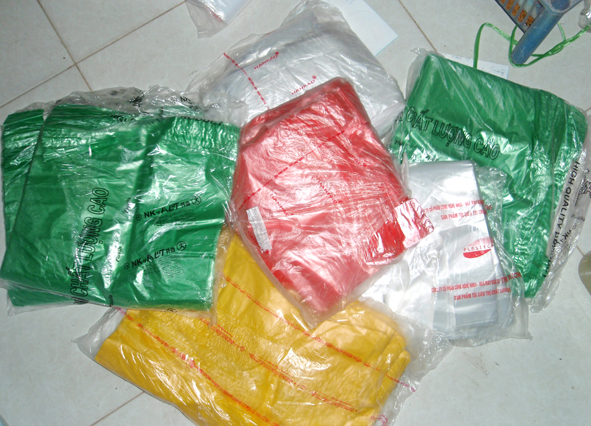kantong: (1, 1, 591, 426)
